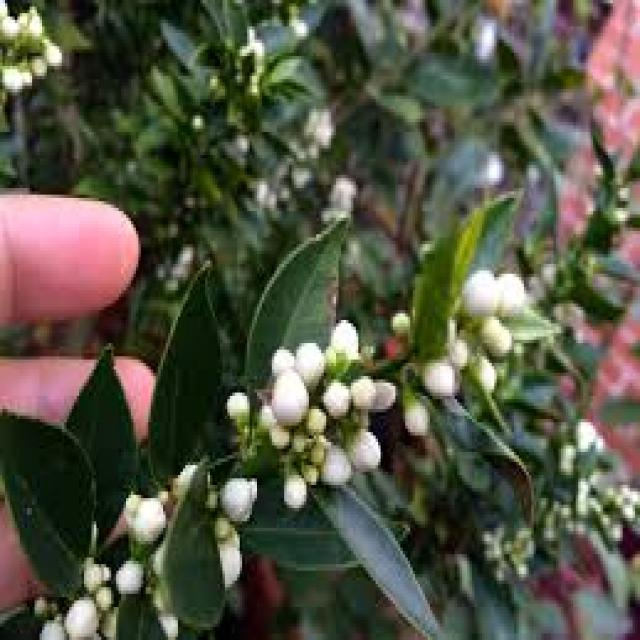organic waste: (269, 372, 309, 426), (124, 495, 168, 544), (218, 472, 255, 521), (329, 316, 358, 369), (64, 597, 99, 637), (344, 426, 378, 465), (494, 270, 522, 316), (368, 370, 398, 409), (467, 267, 489, 320), (326, 172, 351, 218), (314, 446, 348, 478), (477, 313, 504, 353), (319, 379, 348, 416), (215, 534, 237, 578), (403, 393, 427, 432), (153, 600, 178, 637), (422, 356, 450, 389), (111, 561, 141, 590), (442, 326, 464, 363), (554, 442, 576, 478), (168, 462, 198, 488), (222, 386, 245, 419), (270, 343, 292, 376), (294, 340, 316, 373), (277, 472, 301, 501), (573, 419, 593, 452), (346, 383, 368, 412), (267, 419, 291, 445), (304, 432, 326, 459), (620, 482, 638, 514), (479, 531, 504, 554), (210, 511, 230, 538), (40, 36, 60, 63), (37, 617, 62, 637), (304, 406, 324, 429), (509, 521, 524, 551), (576, 488, 590, 518), (257, 402, 274, 426), (480, 360, 494, 389), (15, 56, 30, 83), (284, 426, 304, 446), (24, 52, 44, 72), (0, 62, 17, 85), (442, 310, 455, 340), (318, 340, 334, 363), (79, 564, 99, 581), (596, 508, 610, 531), (393, 307, 405, 333), (301, 465, 319, 482), (27, 10, 37, 39), (91, 591, 109, 607), (0, 13, 12, 36), (30, 588, 42, 610), (494, 561, 519, 571), (99, 561, 114, 577), (17, 13, 27, 36), (610, 524, 618, 548)
